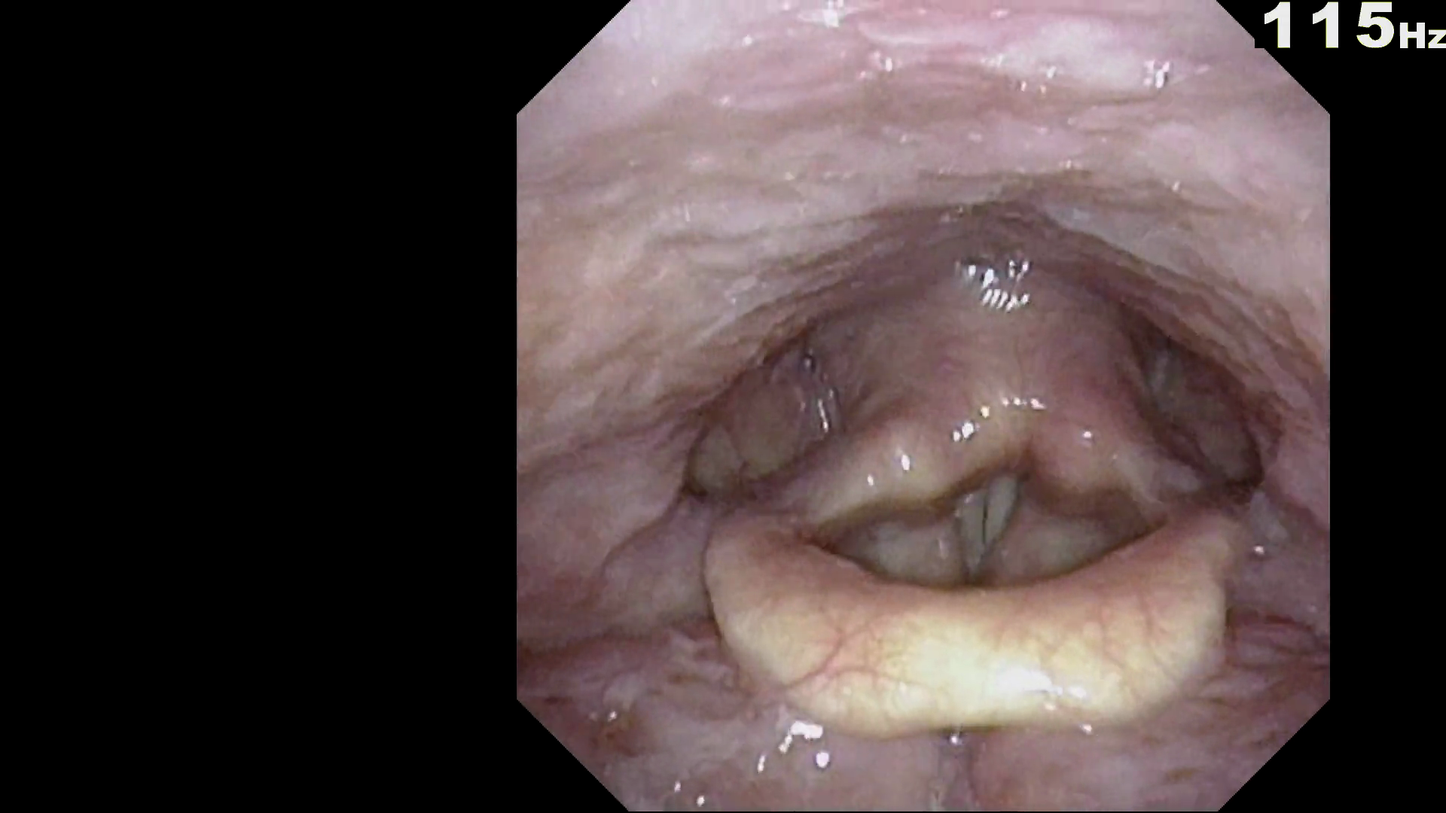epiglottis: (688, 534, 1258, 717)
trachea: (941, 458, 1040, 569)
